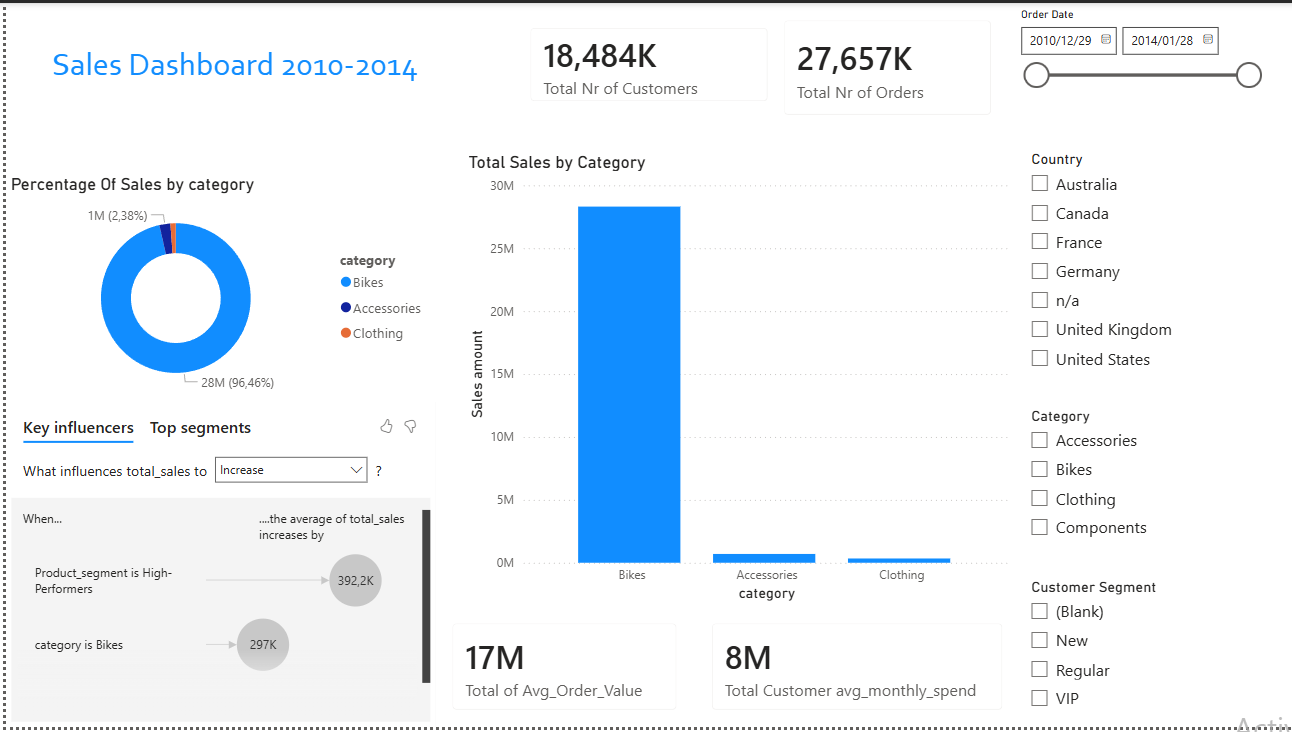

This screenshot's page, from the dashboard's own definition file:
{"tool":"powerbi","page":{"name":"Page 1","canvas":[1280,720],"ordinal":0},"visuals":[{"type":"columnChart","title":"Total Sales by Category","fields":{"Category":["gold dim_products.category"],"Y":["Sum(gold fact_sales.sales_amount)"]},"box":[455.4,147.4,548,451.7],"z":0},{"type":"slicer","fields":{"Values":["gold fact_sales.order_date"]},"box":[995.9,0,260.8,141.7],"z":1000},{"type":"slicer","fields":{"Values":["gold dim_customers.country"]},"box":[1007.3,141.7,260.8,230.6],"z":2000},{"type":"slicer","fields":{"Values":["gold dim_products.category"]},"box":[1007.3,396.9,272.1,170.1],"z":3000},{"type":"cardVisual","fields":{"Data":["Count(gold fact_sales.order_number)"]},"box":[755.9,0,240,128.5],"z":4000},{"type":"cardVisual","fields":{"Data":["Count(gold dim_customers.customer_key)"]},"box":[504.6,7.6,270.2,107.7],"z":5000},{"type":"donutChart","fields":{"Y":["Sum(gold fact_sales.sales_amount)"],"Category":["gold dim_products.category"]},"box":[0,170.1,427.1,226.8],"z":6000},{"type":"slicer","fields":{"Values":["gold V_dim_customers.customer_segment"]},"box":[1007.3,566.9,272.1,153.1],"z":7000},{"type":"cardVisual","fields":{"Data":["Sum(gold V_dim_customers.avg_monthly_spend)"]},"box":[684.1,599.1,323.2,120.9],"z":8000},{"type":"cardVisual","fields":{"Data":["Sum(gold V_dim_customers.Avg_Order_Value)"]},"box":[427.1,599.1,257,120.9],"z":9000},{"type":"textbox","box":[0,0,455.4,128.5],"z":10000},{"type":"keyDriversVisual","fields":{"Target":["gold V_dim_products.total_sales"],"ExplainBy":["Sum(gold V_dim_products.lifespan)","gold V_dim_products.category","Sum(gold V_dim_products.avg_Monthly_revenue)","Sum(gold V_dim_products.total_quantity)","gold V_dim_products.Product_segment"]},"box":[0,396.9,427.1,323.2],"z":11000}]}

Visuals, with their boxes in screenshot pixels (x1, y1, x2, y2), scaled from the page's 1280x720 canvas onto the 1292x732 screenshot:
"Total Sales by Category" columnChart: locate(460, 150, 1013, 609)
slicer - gold fact_sales.order_date: locate(1005, 0, 1268, 144)
slicer - gold dim_customers.country: locate(1017, 144, 1280, 379)
slicer - gold dim_products.category: locate(1017, 404, 1291, 576)
cardVisual - Count(gold fact_sales.order_number): locate(763, 0, 1005, 131)
cardVisual - Count(gold dim_customers.customer_key): locate(509, 8, 782, 117)
donutChart - Sum(gold fact_sales.sales_amount) x gold dim_products.category: locate(0, 173, 431, 404)
slicer - gold V_dim_customers.customer_segment: locate(1017, 576, 1291, 731)
cardVisual - Sum(gold V_dim_customers.avg_monthly_spend): locate(691, 609, 1017, 731)
cardVisual - Sum(gold V_dim_customers.Avg_Order_Value): locate(431, 609, 691, 731)
textbox: locate(0, 0, 460, 131)
keyDriversVisual - gold V_dim_products.total_sales x Sum(gold V_dim_products.lifespan): locate(0, 404, 431, 731)
